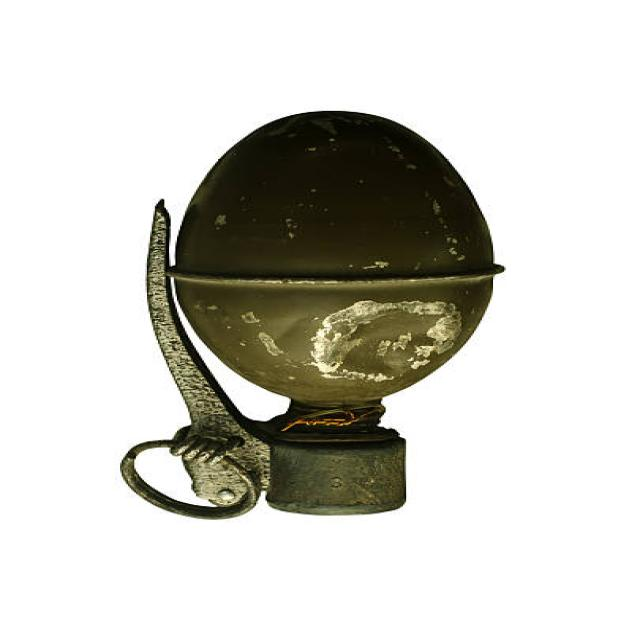grenade: (107, 100, 521, 531)
